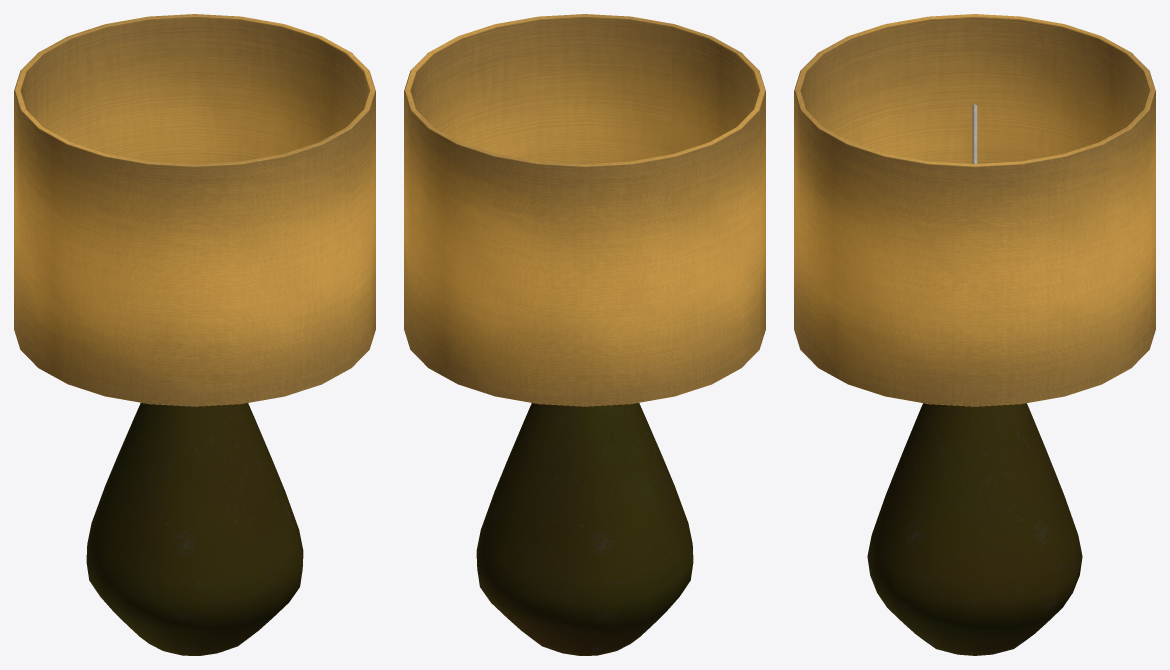
The model's file is 70s_retro_lamp.glb.
3 views of the same model, side by side, from view 1: azimuth 30°, elevation 25°; view 2: azimuth 150°, elevation 25°; view 3: azimuth 270°, elevation 25° (orthographic).
Parts seen in each view (by area): view 1: Box050; view 2: Box050; view 3: Box050.
Part boxes in pixels (left/top/right/bottom): Box050: left=14, top=14, right=375, bottom=655; Box050: left=404, top=14, right=765, bottom=655; Box050: left=794, top=14, right=1155, bottom=655.
Bounding box in the file's own units: 30.34 × 50.95 × 30.34.
Materials: 1 (1 with a texture image).
